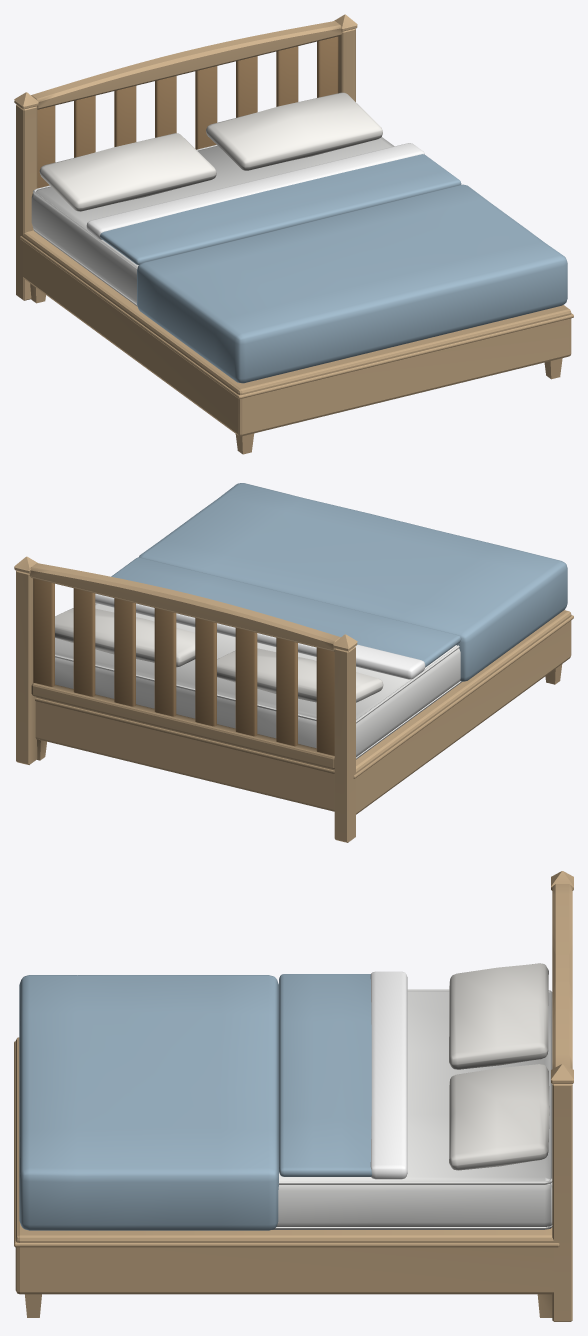
File: bedDouble.glb
3 views of the same model, one above another, from view 1: azimuth 30°, elevation 25°; view 2: azimuth 150°, elevation 25°; view 3: azimuth 270°, elevation 25° (orthographic). The views are drawn at different scales.
Parts seen in each view (by area): view 1: bedDouble, duvet_flap; view 2: bedDouble, duvet_flap; view 3: bedDouble, duvet_flap.
Boxes of the visible parts, box(x1,y1,x2,y2) form: bedDouble: box(14, 14, 573, 454); duvet_flap: box(86, 143, 461, 264); bedDouble: box(14, 483, 573, 842); duvet_flap: box(95, 557, 461, 679); bedDouble: box(14, 871, 573, 1321); duvet_flap: box(279, 971, 407, 1179).
Bounding box in the file's own units: 1.63 × 0.95 × 1.9.
